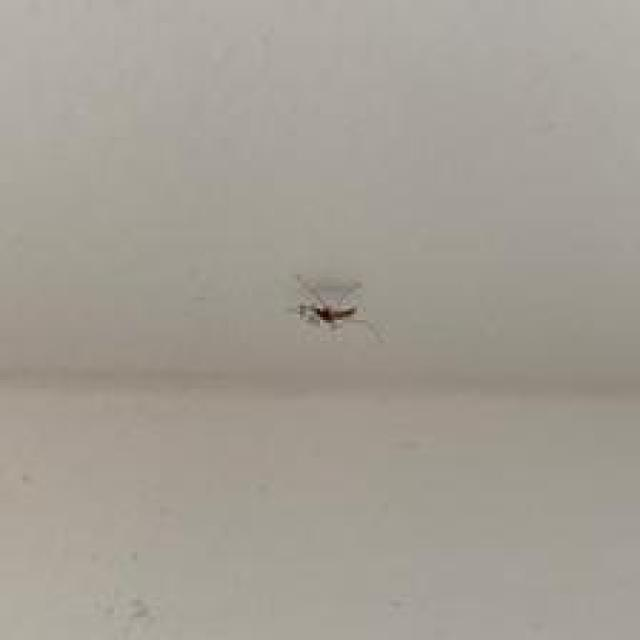Culex: (288, 271, 383, 343)
